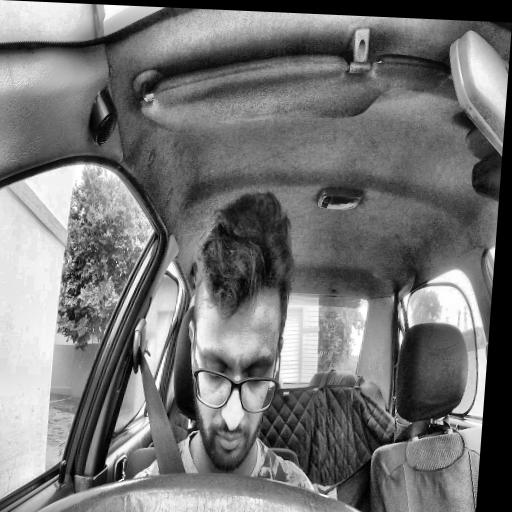drowsy: (176, 188, 299, 478)
